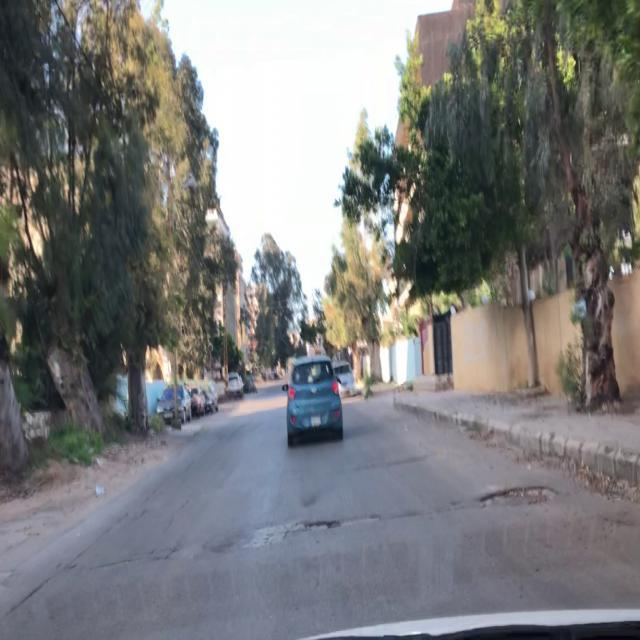Buraco: (475, 484, 562, 511), (289, 518, 343, 533)
